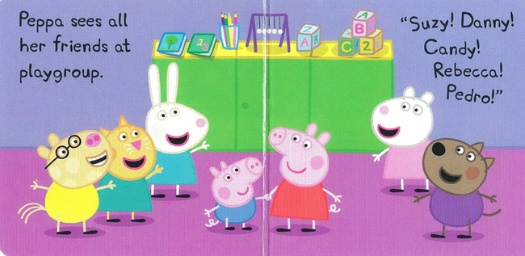Peppa: (265, 123, 344, 235)
